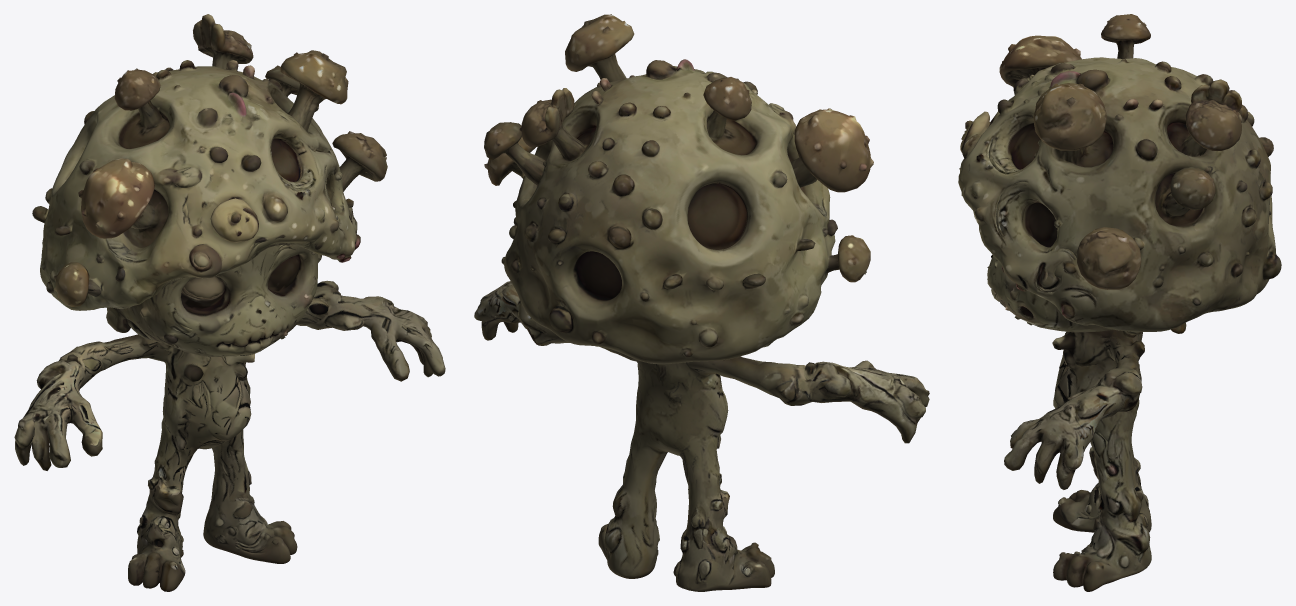
File: big_momma_mold.glb
The picture shows the model from 3 angles, left to right: view 1: azimuth 30°, elevation 25°; view 2: azimuth 150°, elevation 25°; view 3: azimuth 270°, elevation 25°; orthographic projection. The views are drawn at different scales.
Visible parts, largest first — view 1: big_momma_mold; view 2: big_momma_mold; view 3: big_momma_mold.
Part boxes in pixels (box(x1,y1,x2,y2)): big_momma_mold: box(14, 14, 445, 591); big_momma_mold: box(474, 14, 929, 591); big_momma_mold: box(958, 14, 1281, 591).
Bounding box in the file's own units: 5.32 × 6 × 3.44.
1 material, 1 textured.
